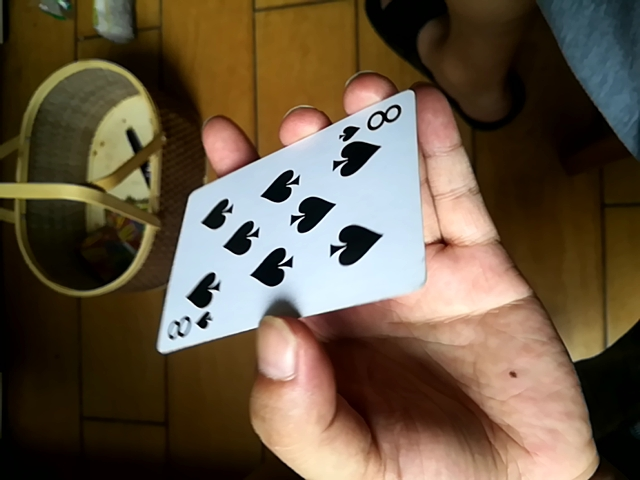ht 8: (160, 87, 424, 356)
